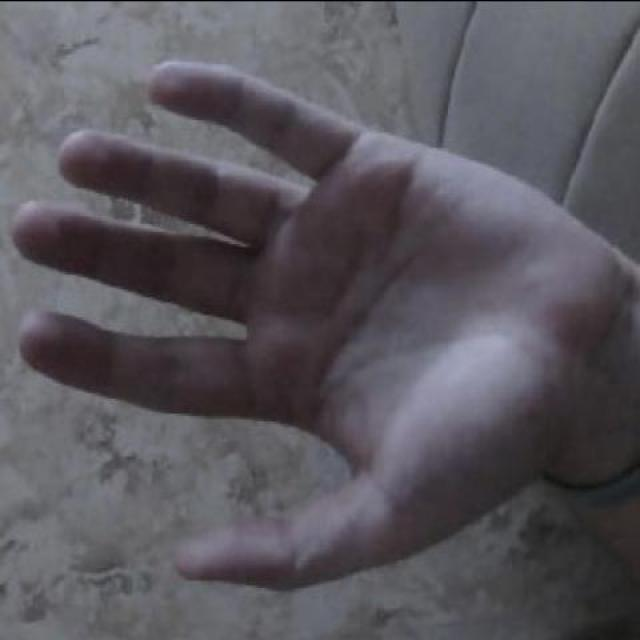Open Hand: (9, 52, 640, 592)
